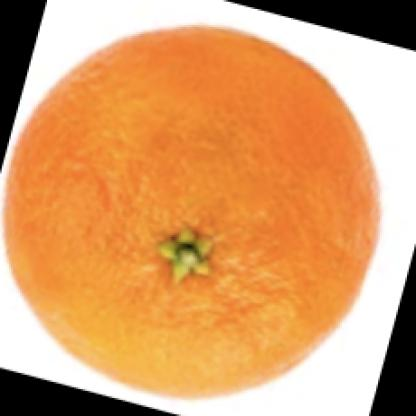fresh: (6, 25, 376, 394)
